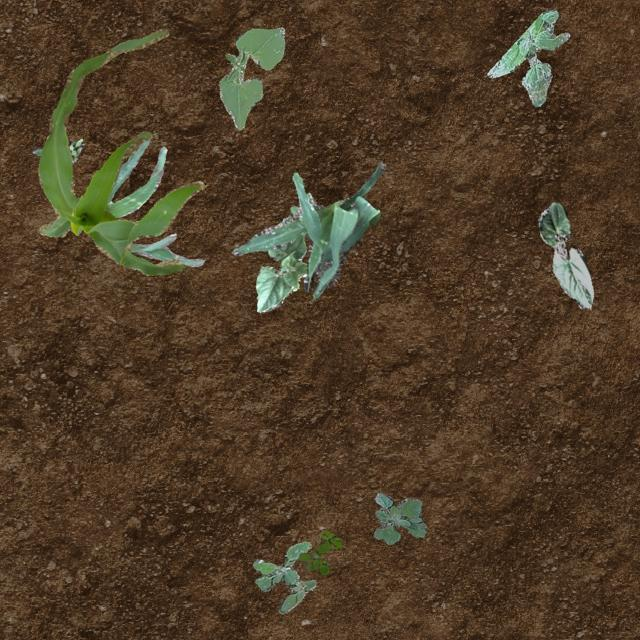crop: (36, 28, 206, 274), (230, 162, 384, 298), (106, 139, 204, 265), (218, 27, 284, 128), (536, 200, 592, 308), (254, 215, 306, 312)
weed: (486, 9, 568, 106), (252, 540, 316, 612), (372, 492, 426, 544), (298, 528, 342, 574), (31, 138, 82, 162), (289, 192, 315, 214)
